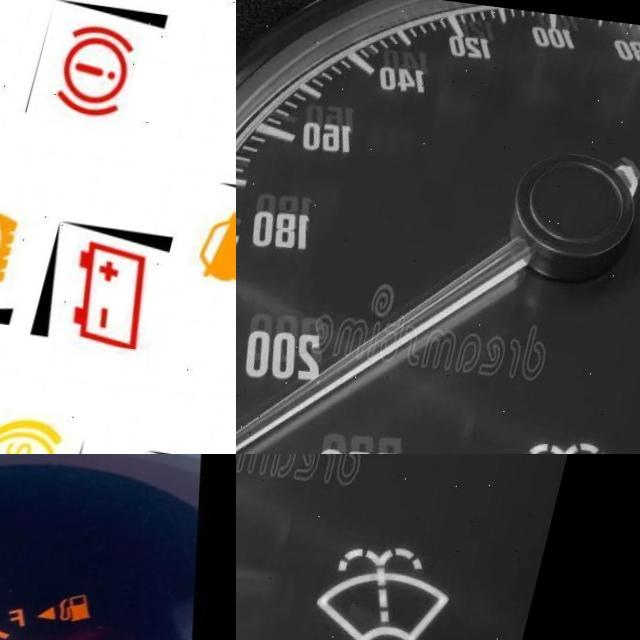Washer Fluid: (330, 527, 479, 638), (515, 421, 640, 454)
